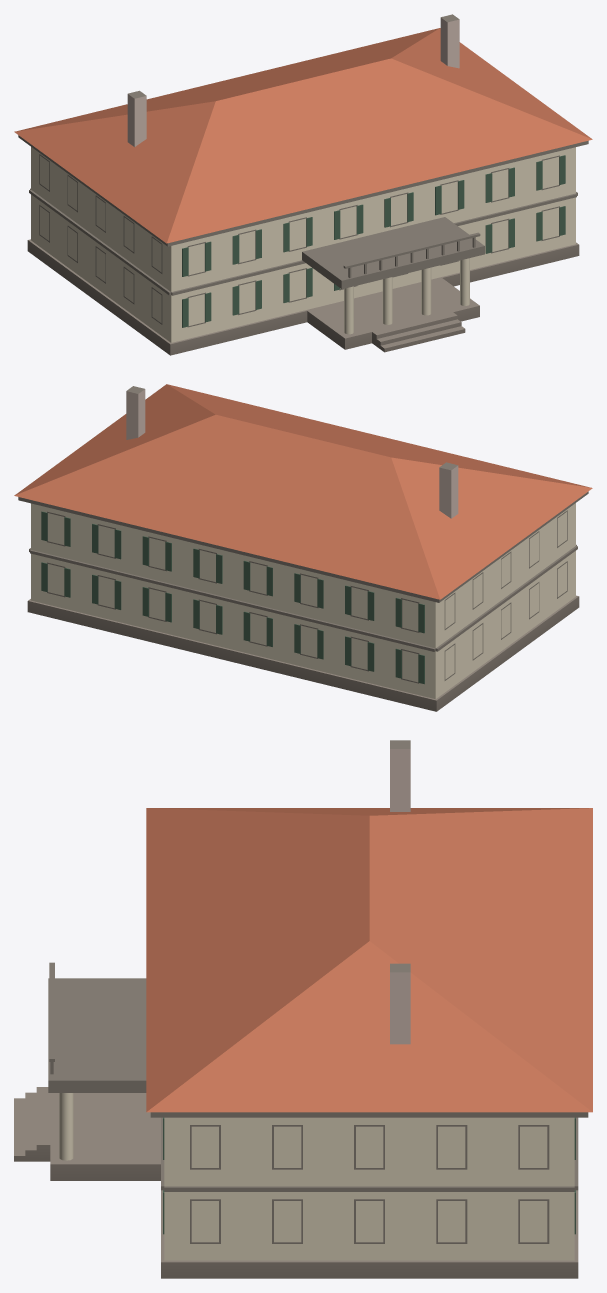
File: mansion_l1.glb
3 renders of one model, top to bottom at view 1: azimuth 30°, elevation 25°; view 2: azimuth 150°, elevation 25°; view 3: azimuth 270°, elevation 25°, orthographic. The views are drawn at different scales.
Parts seen in each view (by area): view 1: mansion_l1; view 2: mansion_l1; view 3: mansion_l1.
Part boxes in pixels (left/top/right/bottom): mansion_l1: left=14, top=14, right=592, bottom=355; mansion_l1: left=14, top=384, right=592, bottom=711; mansion_l1: left=14, top=740, right=592, bottom=1278.
Size of the model in its own units: 31.6 by 13.4 by 25.4.
